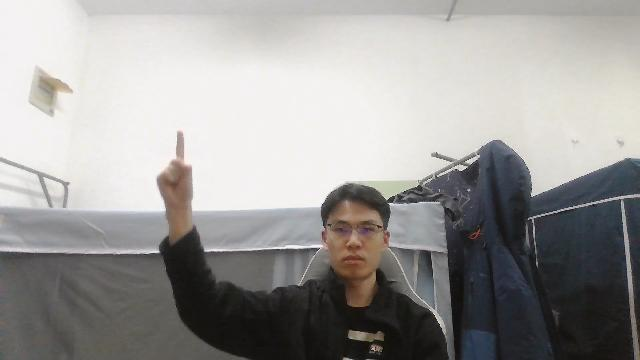one: (156, 130, 192, 209)
